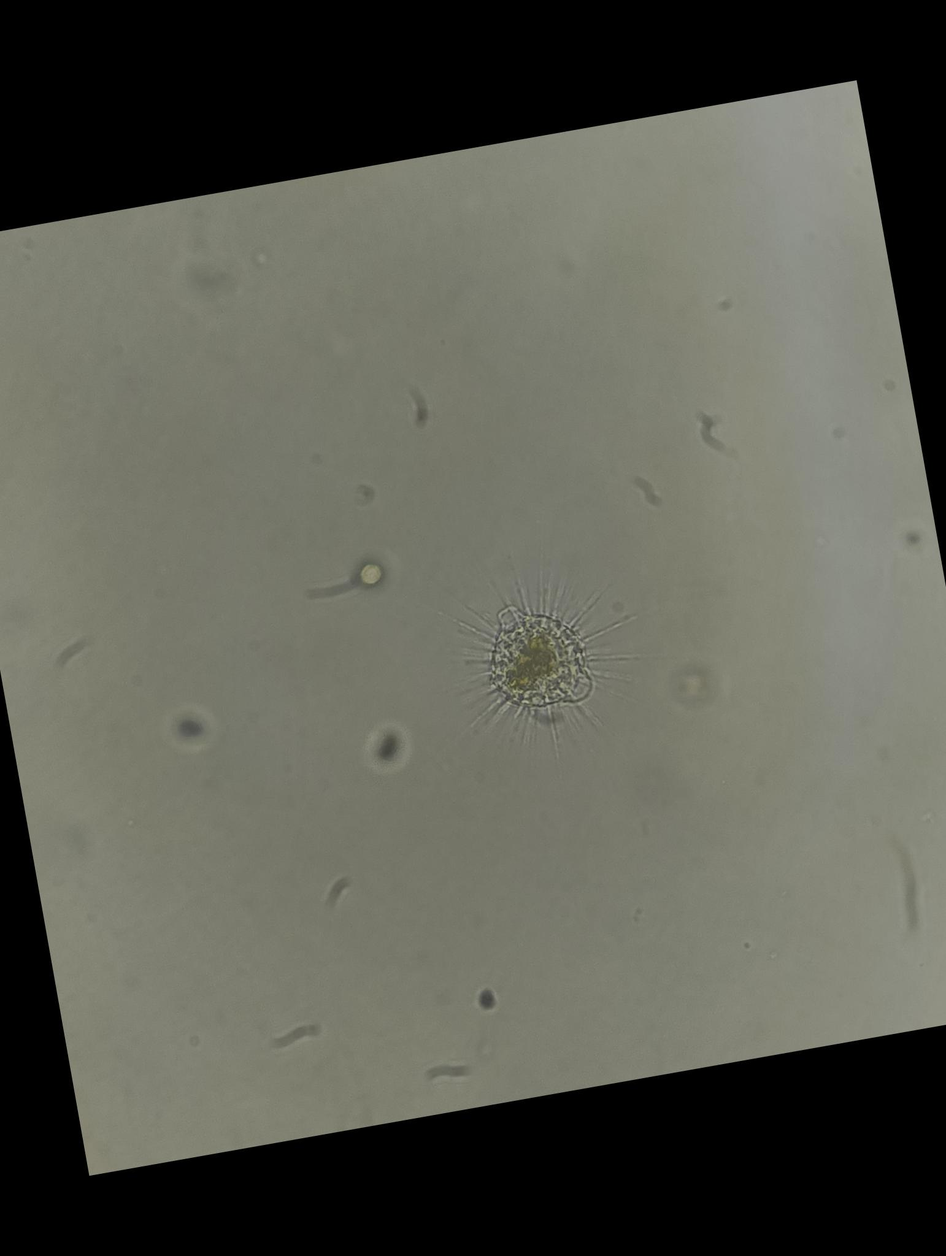Chlorella: (428, 538, 680, 778)
